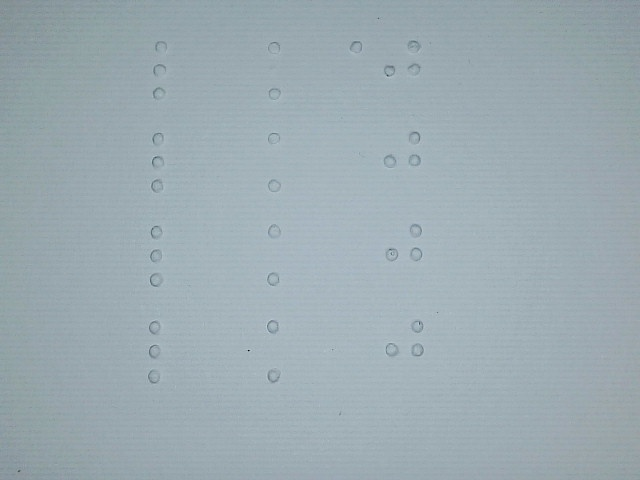J: (382, 30, 423, 94), (382, 123, 423, 187), (383, 216, 424, 280), (384, 311, 425, 375)
K: (259, 38, 303, 102), (259, 130, 303, 194), (258, 222, 302, 286), (259, 318, 303, 382)
L: (146, 38, 190, 102), (142, 129, 186, 193), (141, 223, 185, 287), (140, 319, 184, 383)
